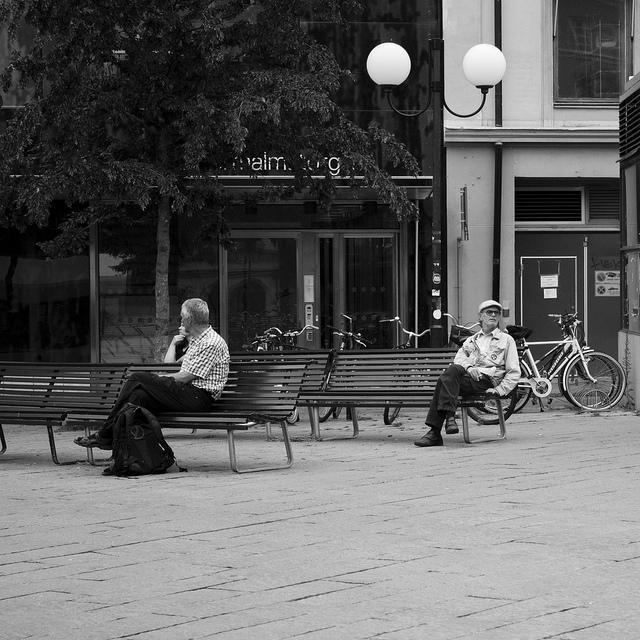bicycle: (506, 314, 626, 412), (320, 314, 366, 421), (378, 315, 443, 349), (321, 322, 348, 390), (262, 324, 322, 352), (445, 314, 477, 348), (242, 340, 267, 352)
